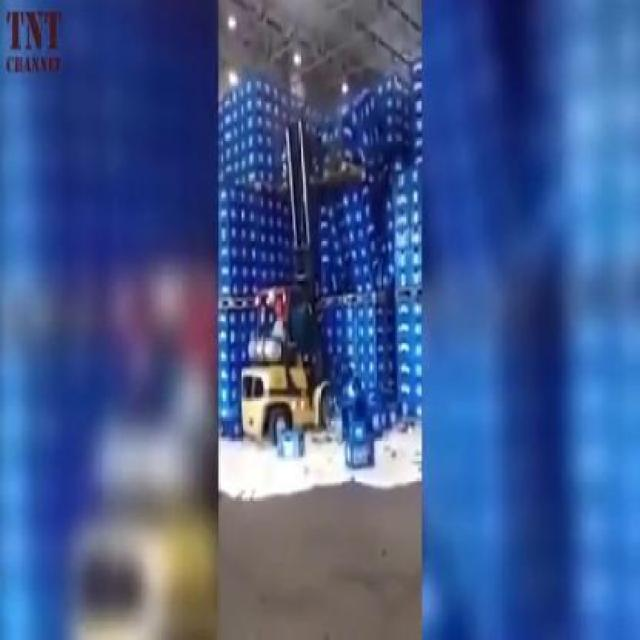forklift: (241, 109, 338, 438)
